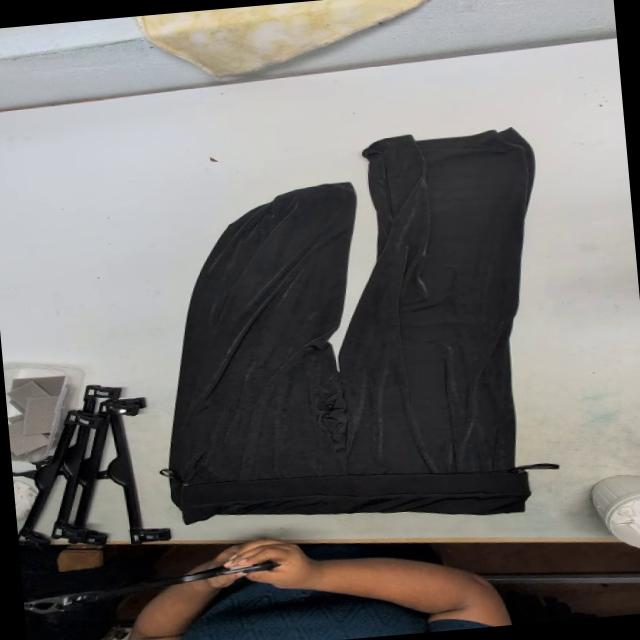new-garment: (164, 129, 555, 522)
